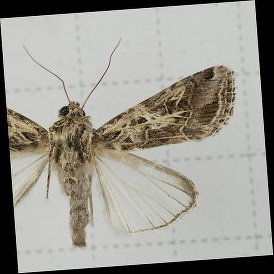Spodoptera litura: (10, 37, 242, 245)
